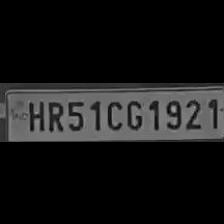1: (86, 97, 104, 131), (144, 96, 162, 130), (204, 95, 220, 129)
2: (183, 96, 203, 130)
5: (64, 97, 86, 131)
9: (162, 96, 182, 130)
C: (104, 96, 122, 130)
G: (124, 96, 142, 130)
H: (23, 97, 44, 131)
R: (43, 96, 62, 132)
